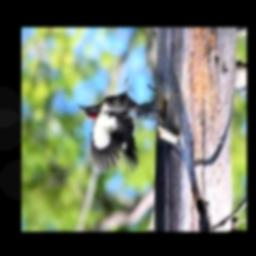Woodpecker: (75, 76, 161, 174)
